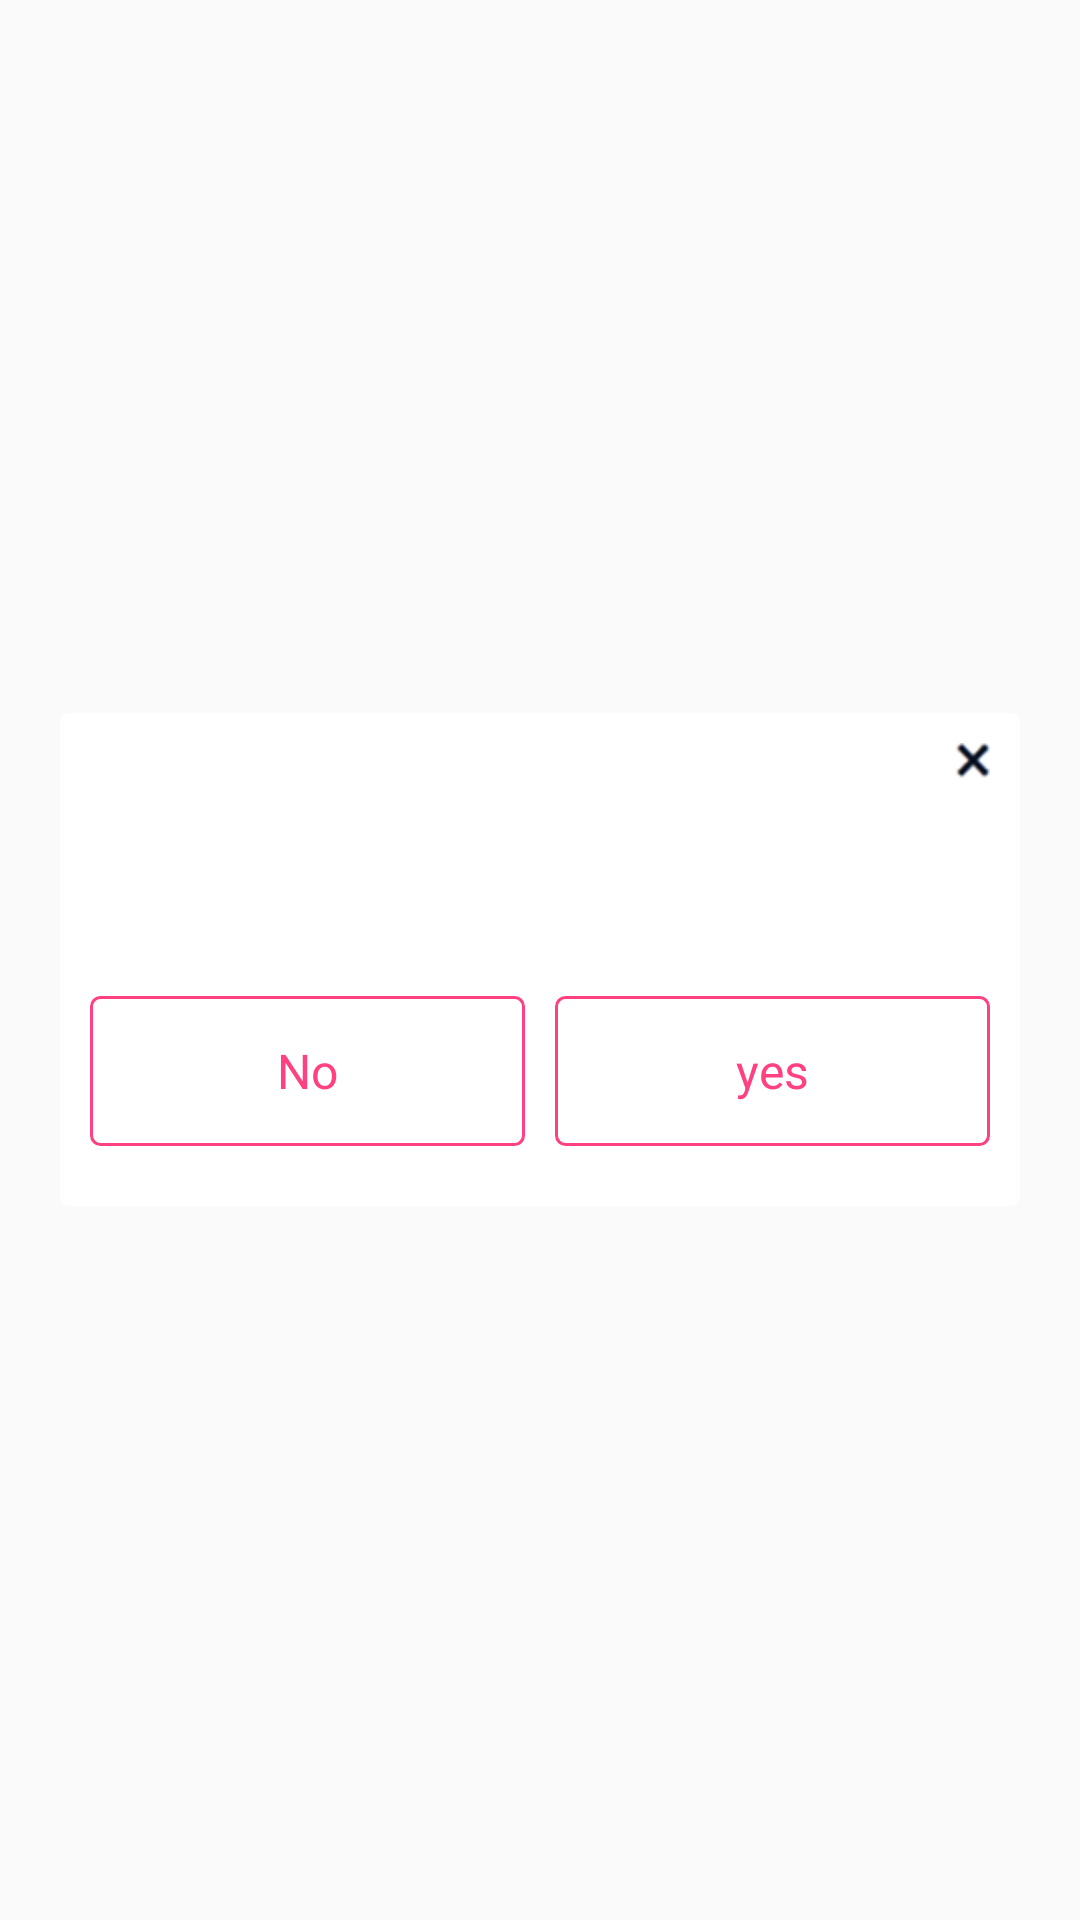

Icons on this 1080px x 1920px Android screen, each with the point to tap as (x,y):
close: (973,760)
